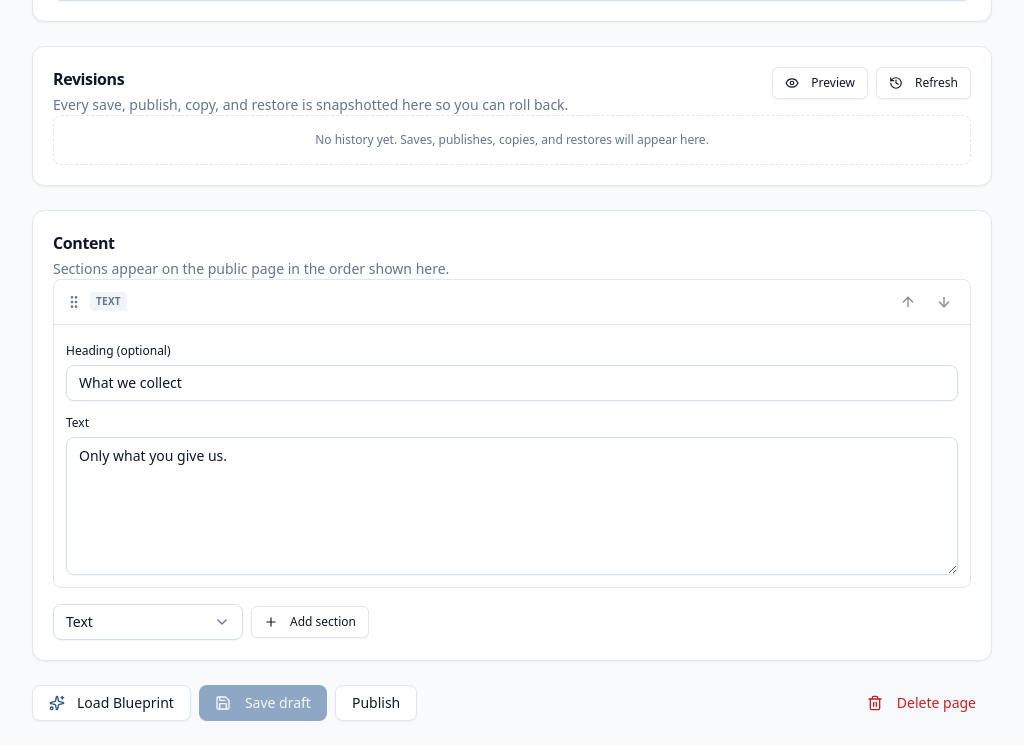
Test: ContentEditor — copy from English and delete › deletes the page after confirmation
(page scrolled)
Expected: the field showing "What we collect" is shown, left=66, top=364, right=958, bottom=400
Click the button "Delete page".
click(921, 702)  # box left=851, top=684, right=992, bottom=720
(page scrolled)
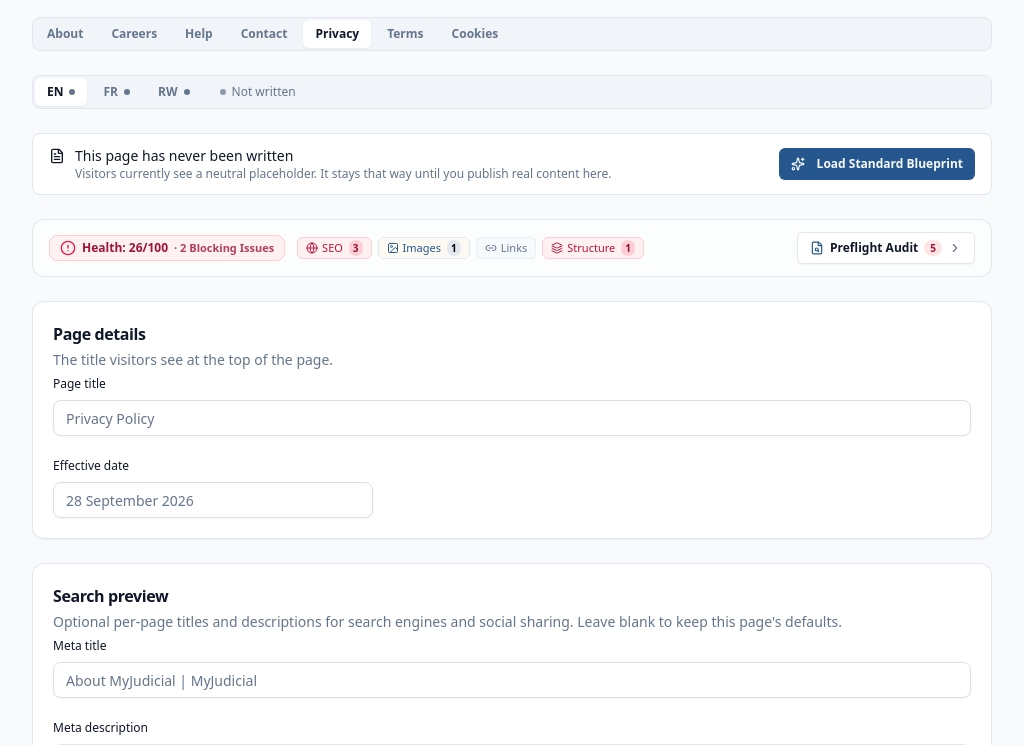
Expected: the text "This page has never been written" is shown, left=75, top=146, right=293, bottom=165
